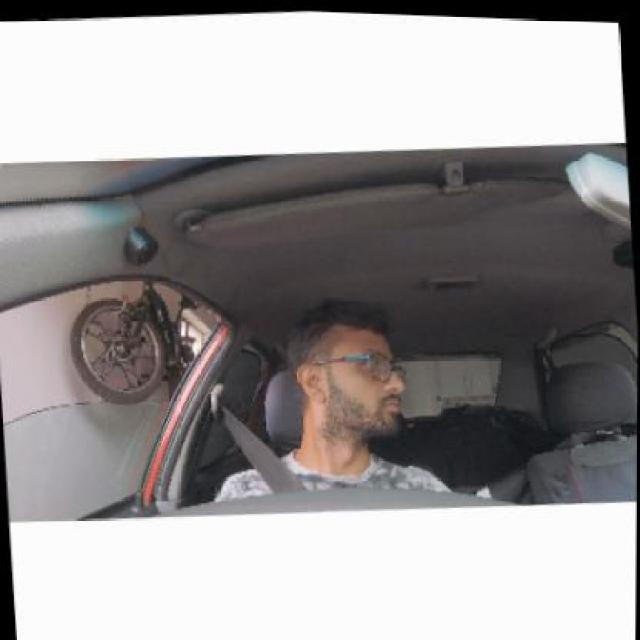LeftRight: (286, 308, 417, 446)
